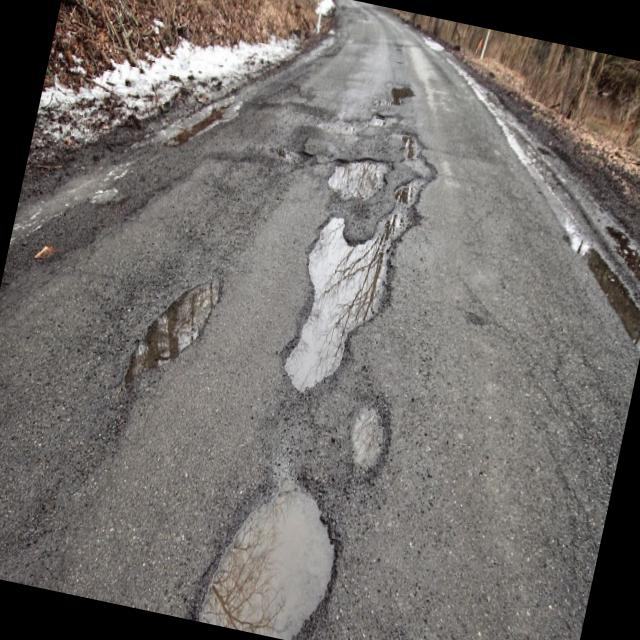Potholes: (256, 86, 456, 434), (181, 450, 356, 640), (116, 257, 235, 407), (311, 129, 401, 216), (335, 385, 405, 492), (388, 67, 421, 111)
